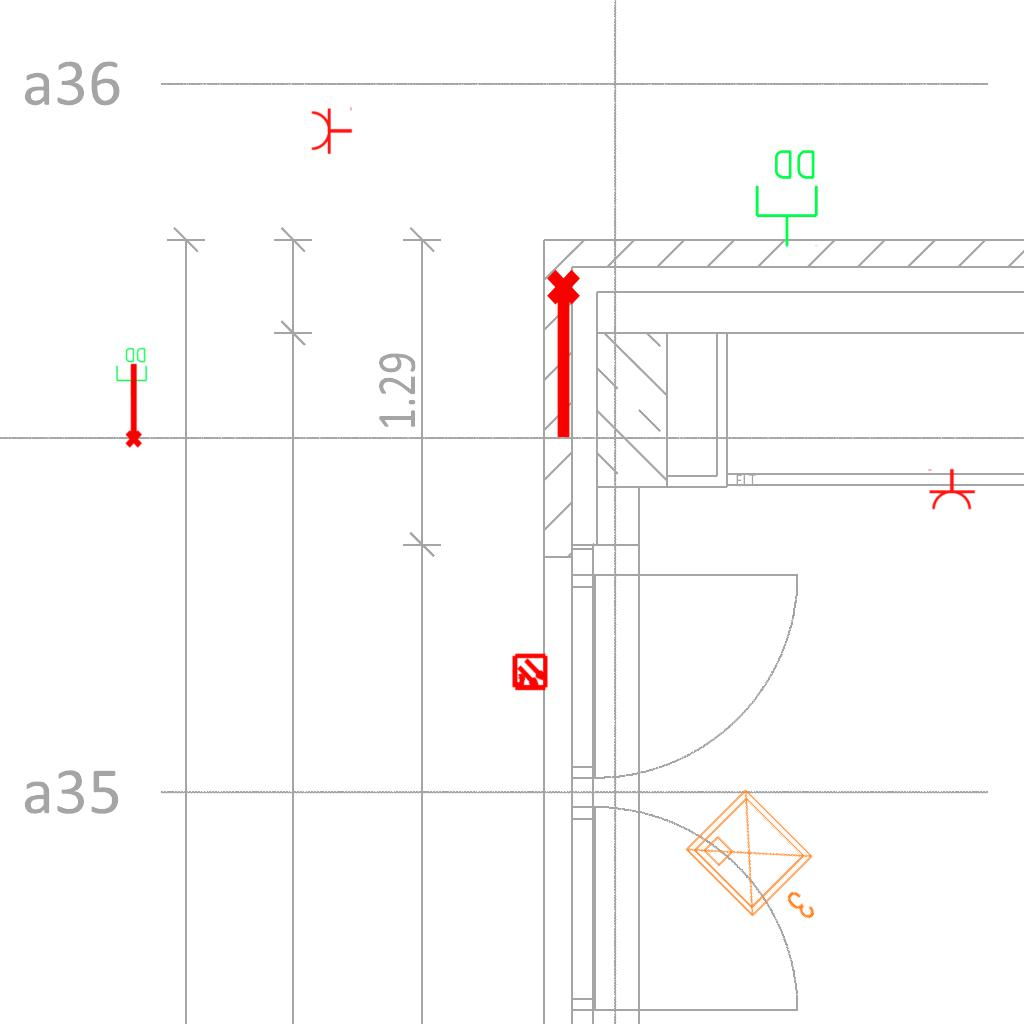ASR_Ansaugoeffnung: (543, 267, 589, 443), (121, 361, 144, 449)
Datenanschluss_zweifach: (753, 146, 822, 249), (115, 346, 149, 397)
Einbaudownlights_LED_Konferenzraeume: (675, 776, 855, 956)
OT_Multisensormelder_(Kombination_RMO_WMD): (502, 645, 558, 701)
Schukosteckdose_einfach: (926, 468, 976, 511), (310, 105, 353, 155)
